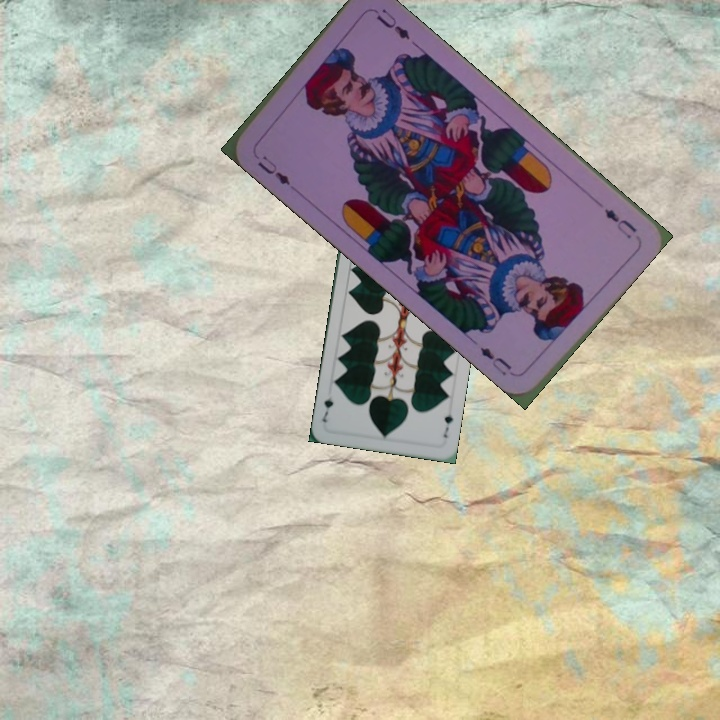EU: (253, 151, 294, 188), (600, 205, 640, 242)
G7: (439, 410, 456, 441)
